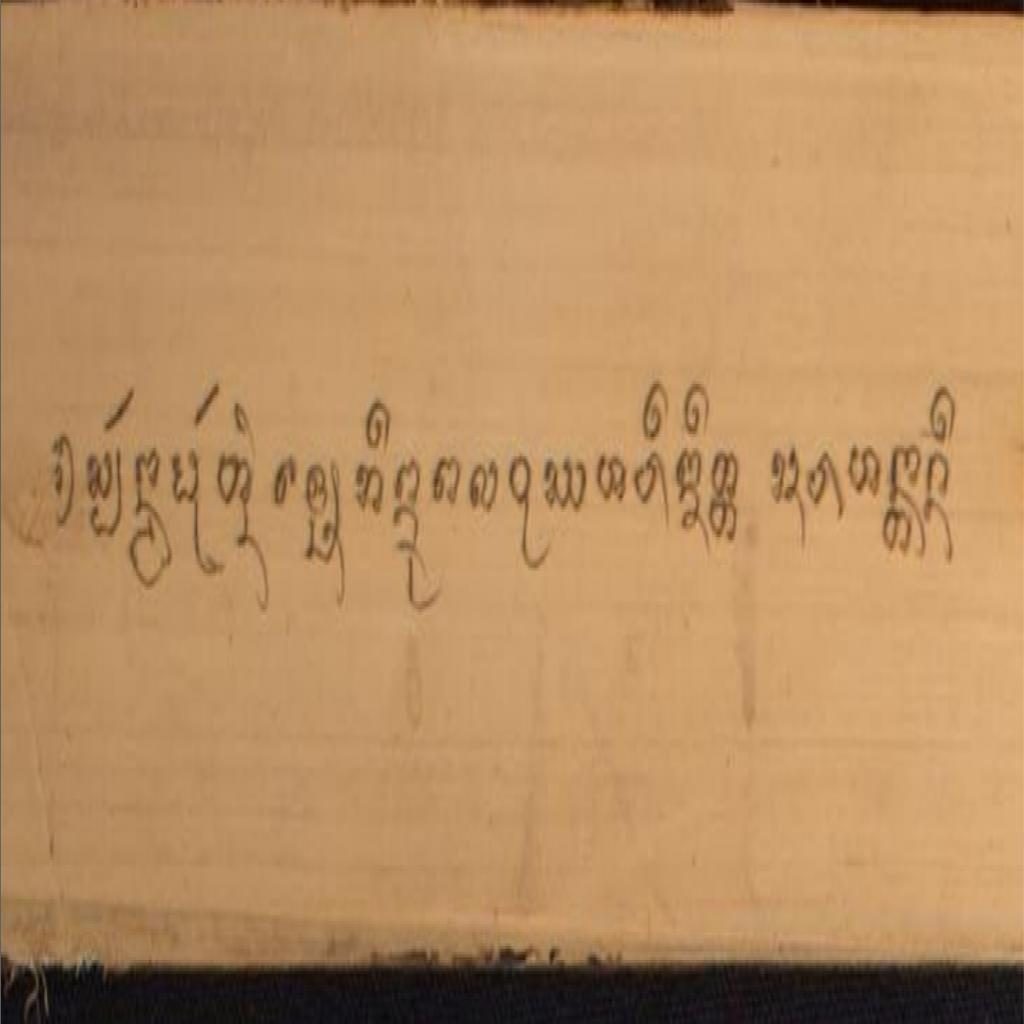LN034: (468, 455, 501, 519)
